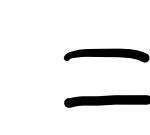eqv: (63, 48, 150, 109)
